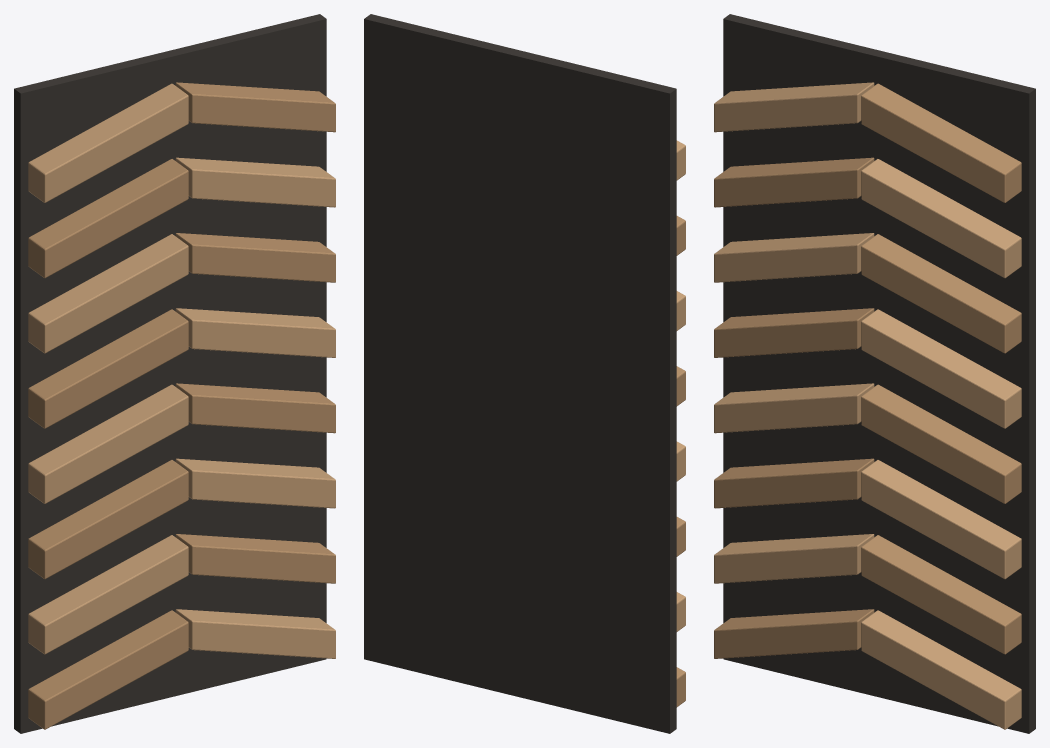
Rendered from timber-chevron.glb.
The picture shows the model from 3 angles, left to right: view 1: azimuth 30°, elevation 25°; view 2: azimuth 150°, elevation 25°; view 3: azimuth 330°, elevation 25°; orthographic projection.
Parts seen in each view (by area): view 1: Mounting board, Chevron 8 left, Chevron 2 left, Chevron 4 left, Chevron 1 left, Chevron 6 left, Chevron 3 left, Chevron 5 left, Chevron 7 left, Chevron 1 right, Chevron 3 right, Chevron 2 right (+5 smaller); view 2: Mounting board; view 3: Mounting board, Chevron 8 right, Chevron 2 right, Chevron 4 right, Chevron 1 right, Chevron 6 right, Chevron 3 right, Chevron 5 right, Chevron 7 right, Chevron 1 left, Chevron 3 left, Chevron 2 left (+5 smaller).
Part boxes in pixels (<box>): Mounting board: <box>14,14,326,733</box>; Chevron 8 left: <box>28,83,188,202</box>; Chevron 2 left: <box>28,535,188,654</box>; Chevron 4 left: <box>28,384,188,503</box>; Chevron 1 left: <box>28,610,188,729</box>; Chevron 6 left: <box>28,234,188,353</box>; Chevron 3 left: <box>28,460,188,579</box>; Chevron 5 left: <box>28,309,188,428</box>; Chevron 7 left: <box>28,159,188,278</box>; Chevron 1 right: <box>175,609,335,658</box>; Chevron 3 right: <box>175,458,335,508</box>; Chevron 2 right: <box>175,534,335,583</box>; Mounting board: <box>364,14,676,733</box>; Mounting board: <box>723,14,1035,733</box>; Chevron 8 right: <box>861,83,1021,202</box>; Chevron 2 right: <box>861,535,1021,654</box>; Chevron 4 right: <box>861,384,1021,503</box>; Chevron 1 right: <box>861,610,1021,729</box>; Chevron 6 right: <box>861,234,1021,353</box>; Chevron 3 right: <box>861,460,1021,579</box>; Chevron 5 right: <box>861,309,1021,428</box>; Chevron 7 right: <box>861,159,1021,278</box>; Chevron 1 left: <box>714,609,874,658</box>; Chevron 3 left: <box>714,458,874,508</box>; Chevron 2 left: <box>714,534,874,583</box>.
Size of the model in its own units: 0.6 by 1.2 by 0.08.
